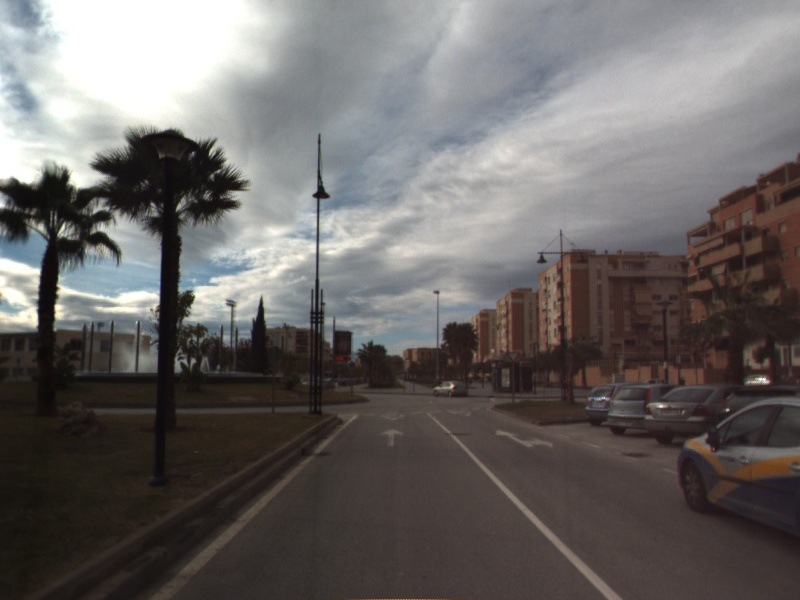STRAIGHT: (378, 426, 406, 448)
STRAIGHT_RIGHT: (493, 428, 554, 450)
